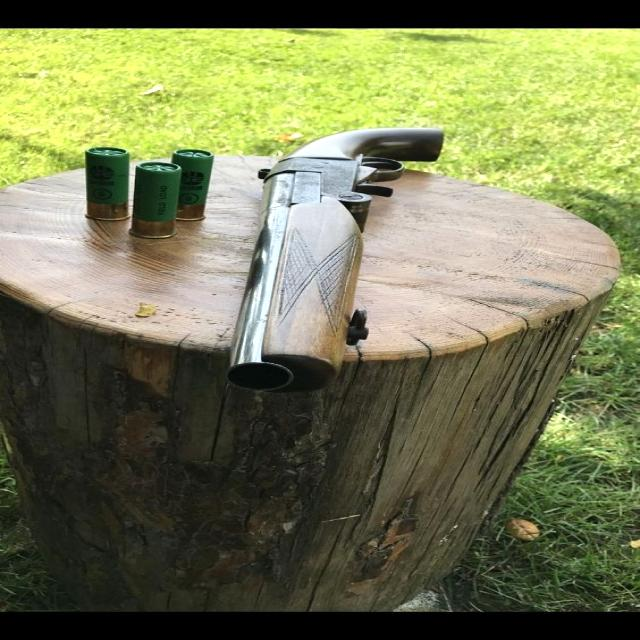shotgun: (136, 114, 530, 408)
